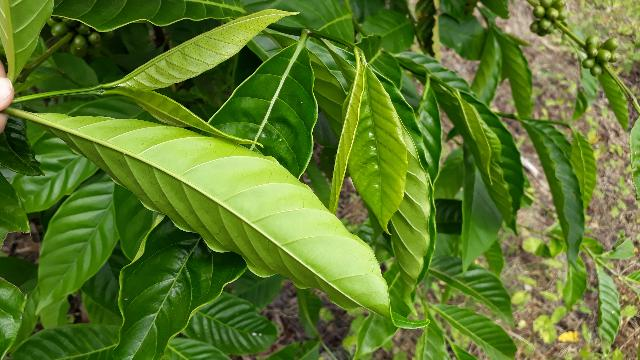healthy: (207, 29, 604, 253)
